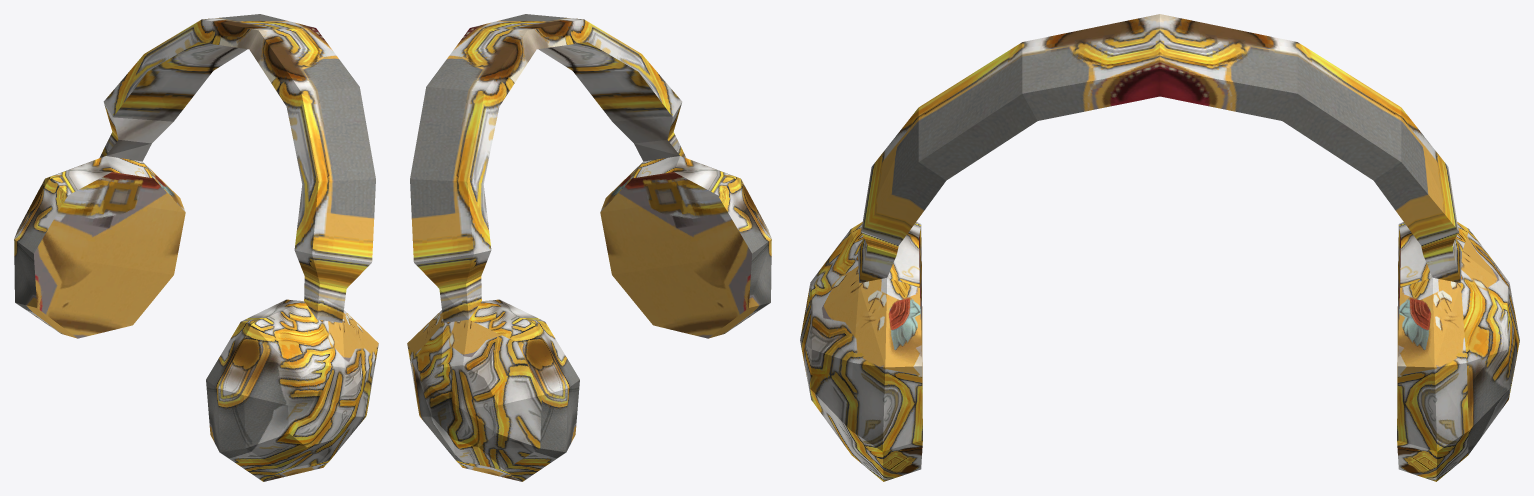
File: Chameleon_headphone.obj
3 views of the same model, side by side, from view 1: azimuth 30°, elevation 25°; view 2: azimuth 150°, elevation 25°; view 3: azimuth 270°, elevation 25° (orthographic). The views are drawn at different scales.
Parts seen in each view (by area): view 1: Chameleon_headphone_tri; view 2: Chameleon_headphone_tri; view 3: Chameleon_headphone_tri.
Part boxes in pixels (bbox=[...]): Chameleon_headphone_tri: bbox=[14, 14, 378, 481]; Chameleon_headphone_tri: bbox=[407, 14, 771, 481]; Chameleon_headphone_tri: bbox=[800, 14, 1519, 481].
Bounding box in the file's own units: 0.1456 × 0.2476 × 0.3285.
Materials: 1 (1 with a texture image).
